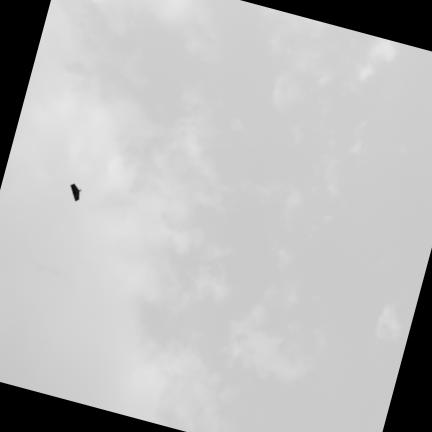Shahed: (70, 183, 80, 199)
